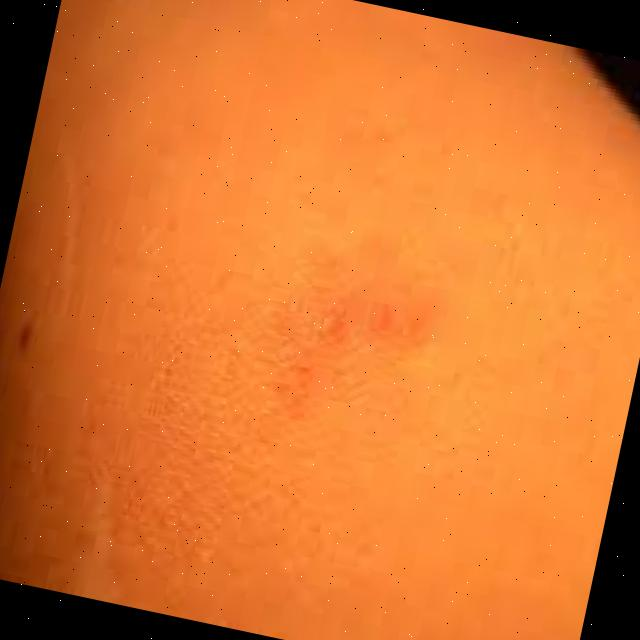kan emici bocekler: (282, 271, 420, 419)
